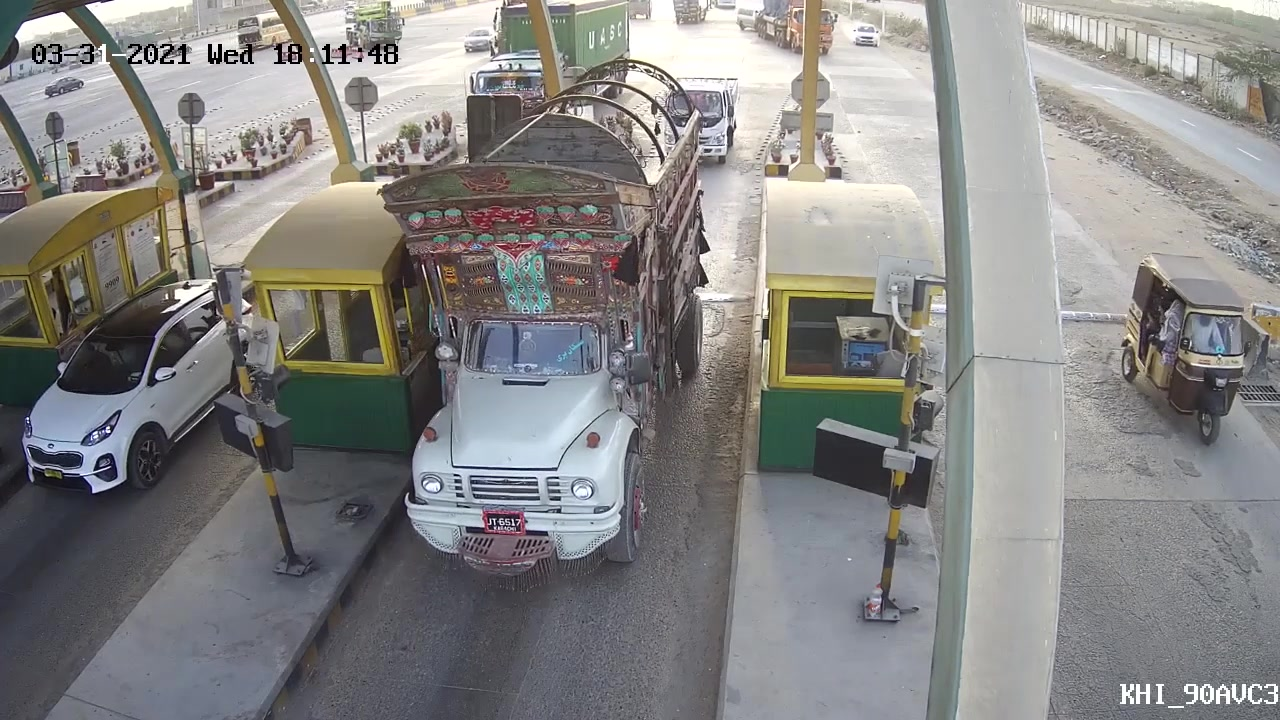F5: (375, 56, 712, 598)
